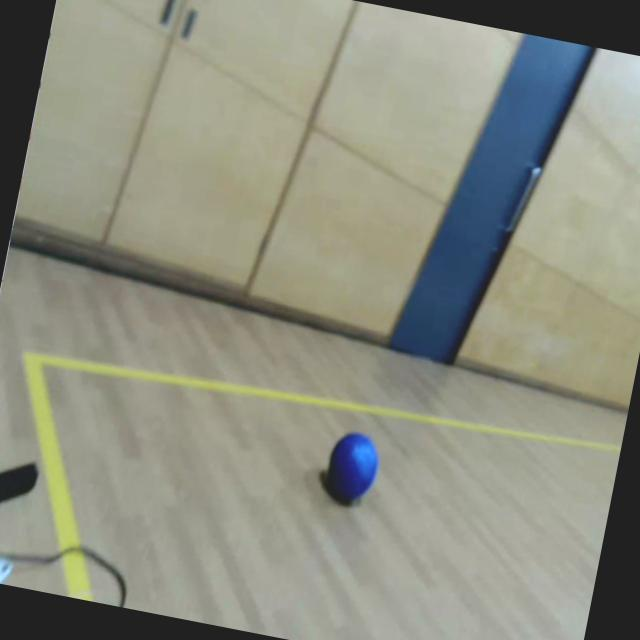blue_ball: (321, 428, 384, 506)
